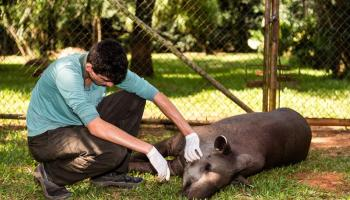Anta: (154, 107, 318, 198)
